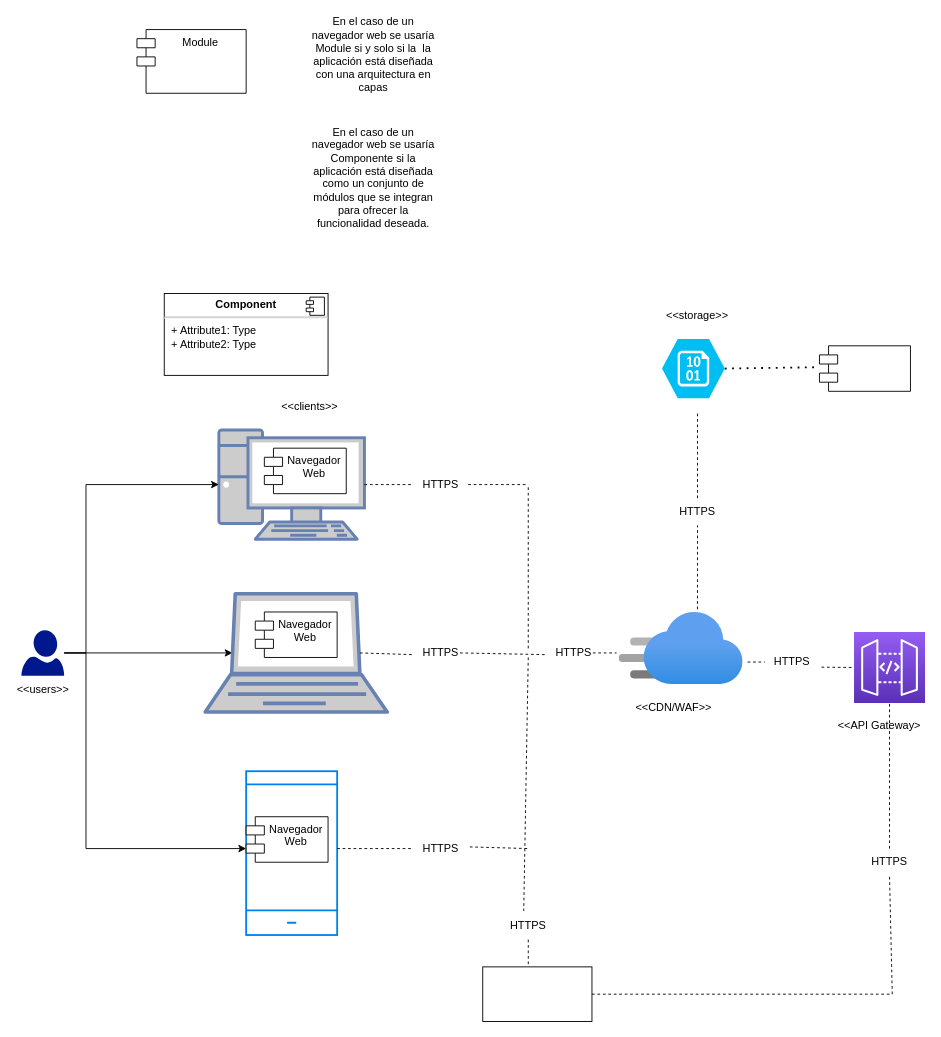
This 941x1037 diagram has some shape labels left out. Each missing label, with the centre of its shape:
"Autenticador" belongs at point (537, 993).
"FrontEnd" belongs at point (864, 368).
